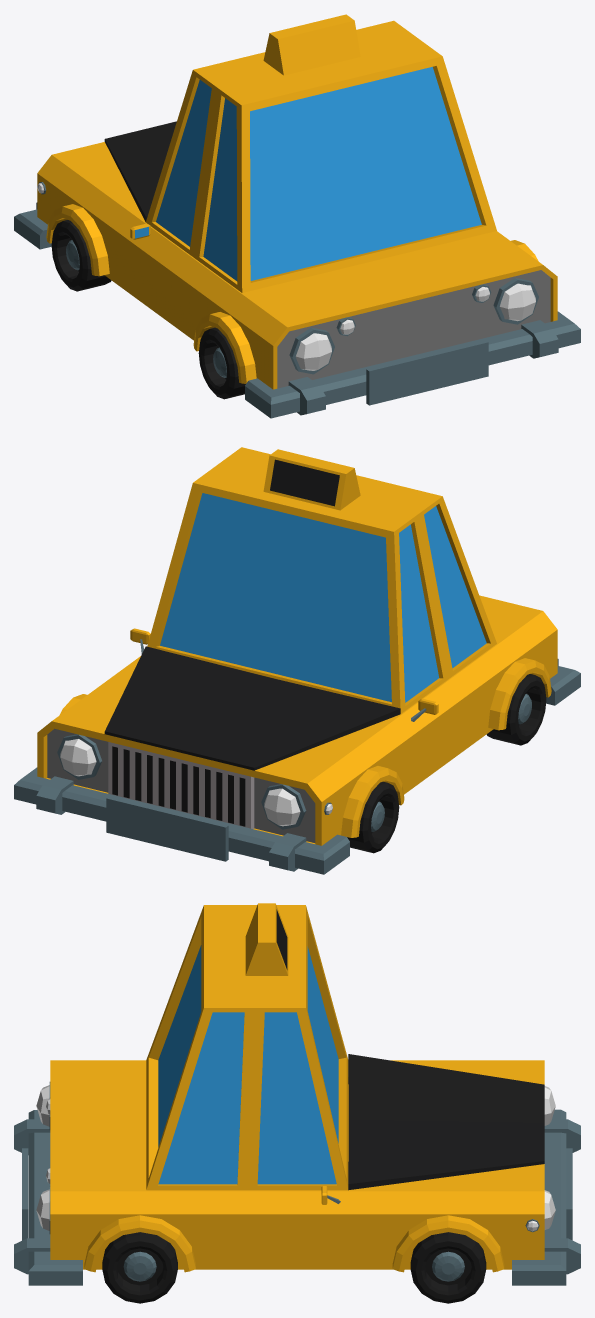
The model's file is taxi.glb.
The picture shows the model from 3 angles, top to bottom: view 1: azimuth 30°, elevation 25°; view 2: azimuth 150°, elevation 25°; view 3: azimuth 270°, elevation 25°; orthographic projection. The views are drawn at different scales.
Parts seen in each view (by area): view 1: Cube.001, Cube, Cube.009, Plane.001, Cube.002, Cylinder, Cylinder.001, Cube.011, Cylinder.005, Cube.010, Cube.003, Cylinder.004 (+1 smaller); view 2: Cube.001, Cube, Cube.011, Cube.003, Cube.007, Plane, Cube.002, Cylinder, Cube.008, Cylinder.001, Cylinder.002, Cube.006 (+2 smaller); view 3: Cube.001, Cube, Cube.011, Cylinder, Cylinder.001, Cube.003, Cube.009, Cube.002, Cylinder.004, Cube.006, Cube.010, Cylinder.005 (+3 smaller).
Boxes of the visible parts, bbox=[...] form: Cube.001: bbox=[146, 20, 496, 292]; Cube: bbox=[37, 142, 557, 389]; Cube.009: bbox=[245, 311, 580, 418]; Plane.001: bbox=[366, 340, 488, 405]; Cube.002: bbox=[263, 14, 360, 75]; Cylinder: bbox=[51, 220, 245, 399]; Cylinder.001: bbox=[46, 204, 538, 383]; Cube.011: bbox=[104, 121, 176, 221]; Cylinder.005: bbox=[289, 278, 538, 374]; Cube.010: bbox=[288, 320, 558, 415]; Cube.003: bbox=[14, 209, 51, 249]; Cylinder.004: bbox=[66, 240, 226, 377]; Cube.001: bbox=[147, 447, 496, 713]; Cube: bbox=[37, 595, 557, 845]; Cube.011: bbox=[104, 646, 400, 770]; Cube.003: bbox=[14, 767, 349, 874]; Cube.007: bbox=[108, 742, 254, 828]; Plane: bbox=[106, 796, 228, 861]; Cube.002: bbox=[263, 449, 360, 510]; Cylinder: bbox=[347, 674, 546, 853]; Cube.008: bbox=[112, 746, 245, 826]; Cylinder.001: bbox=[59, 658, 551, 837]; Cylinder.002: bbox=[57, 734, 306, 829]; Cube.006: bbox=[36, 776, 306, 871]; Cube.001: bbox=[146, 905, 348, 1190]; Cube: bbox=[50, 1060, 544, 1269]; Cube.011: bbox=[348, 1054, 544, 1190]; Cylinder: bbox=[102, 1232, 486, 1303]; Cylinder.001: bbox=[84, 1215, 504, 1272]; Cube.003: bbox=[512, 1109, 566, 1285]; Cube.009: bbox=[28, 1110, 82, 1285]; Cube.002: bbox=[245, 903, 288, 975]; Cylinder.004: bbox=[123, 1251, 464, 1281]; Cube.006: bbox=[544, 1119, 580, 1274]; Cube.010: bbox=[14, 1119, 50, 1274]; Cylinder.005: bbox=[36, 1082, 50, 1233].
Bounding box in the file's own units: 1.89 × 1.64 × 2.8.
